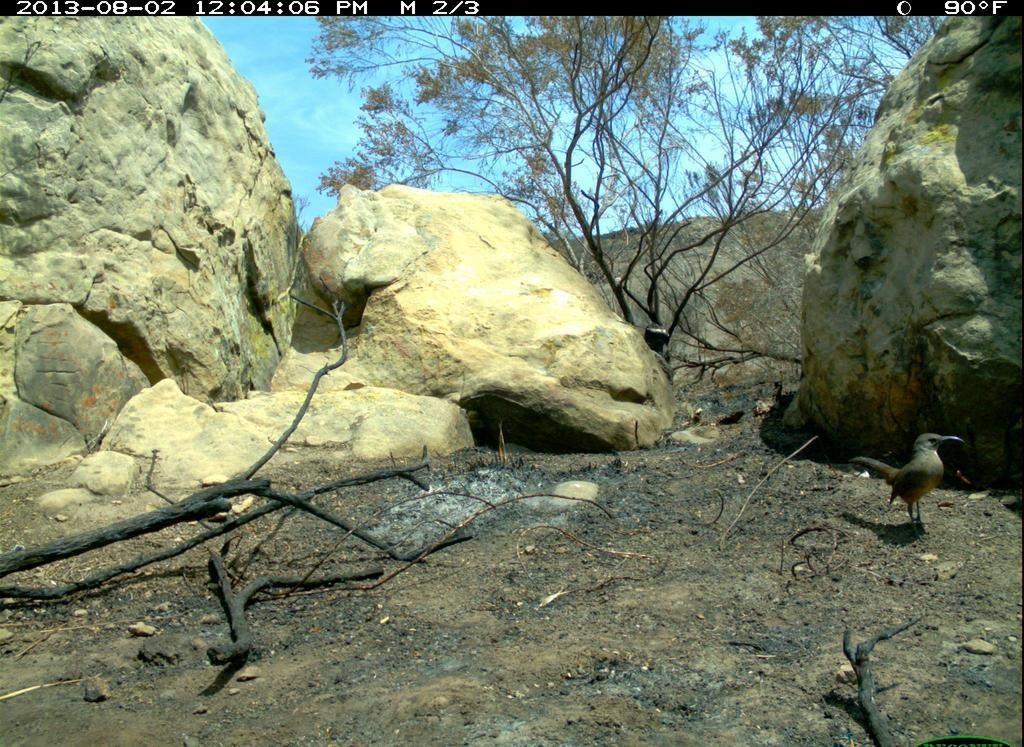bird: (862, 425, 964, 536)
